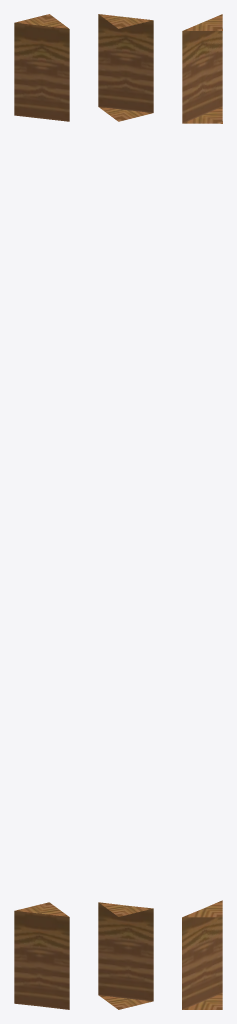
Rendered from Corner_Exterior_TopDown.glb.
3 renders of one model, left to right at view 1: azimuth 30°, elevation 25°; view 2: azimuth 210°, elevation 25°; view 3: azimuth 270°, elevation 25°, orthographic.
Visible parts, largest first — view 1: Corner_Exterior_TopDown; view 2: Corner_Exterior_TopDown; view 3: Corner_Exterior_TopDown.
Part boxes in pixels (x1,y1,x2,y2): Corner_Exterior_TopDown: (14,14,69,1009); Corner_Exterior_TopDown: (98,14,153,1009); Corner_Exterior_TopDown: (182,14,222,1009).
Bounding box in the file's own units: 0.0931 × 2.47 × 0.0931.
1 material, 1 textured.
